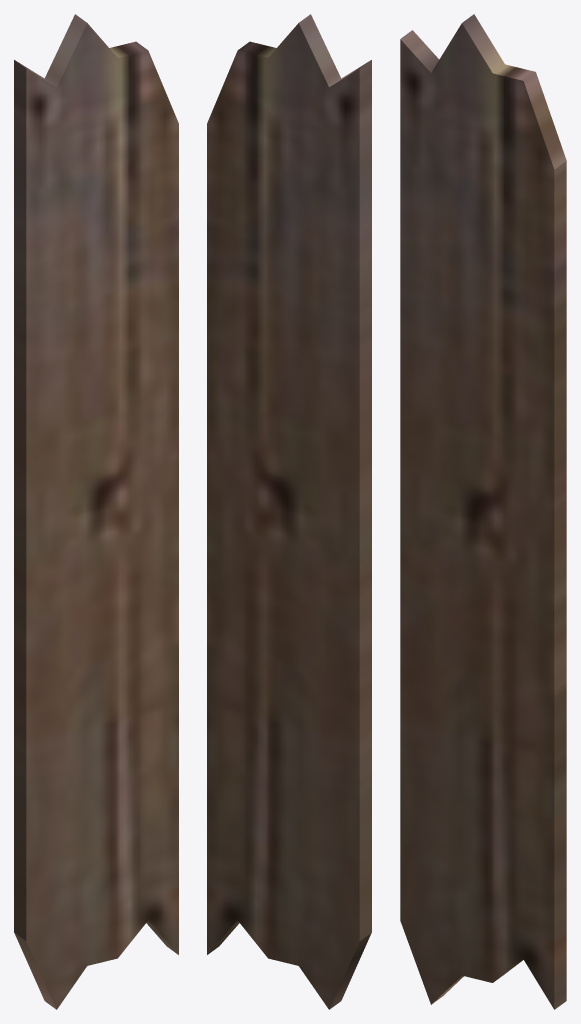
File: mokuzai_3.fbx
The picture shows the model from 3 angles, left to right: view 1: azimuth 30°, elevation 25°; view 2: azimuth 150°, elevation 25°; view 3: azimuth 330°, elevation 25°; orthographic projection.
Visible parts, largest first — view 1: pCube7; view 2: pCube7; view 3: pCube7.
Boxes of the visible parts, x1,y1,x2,y2 form: pCube7: (14, 14, 178, 1009); pCube7: (207, 14, 371, 1009); pCube7: (400, 14, 566, 1009).
Bounding box in the file's own units: 1.49 × 9.15 × 0.2064.
